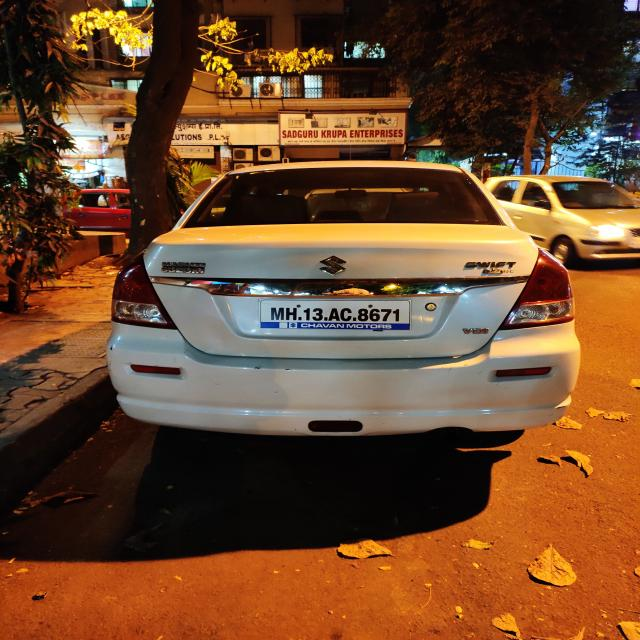Number-Plate: (264, 298, 411, 332)
